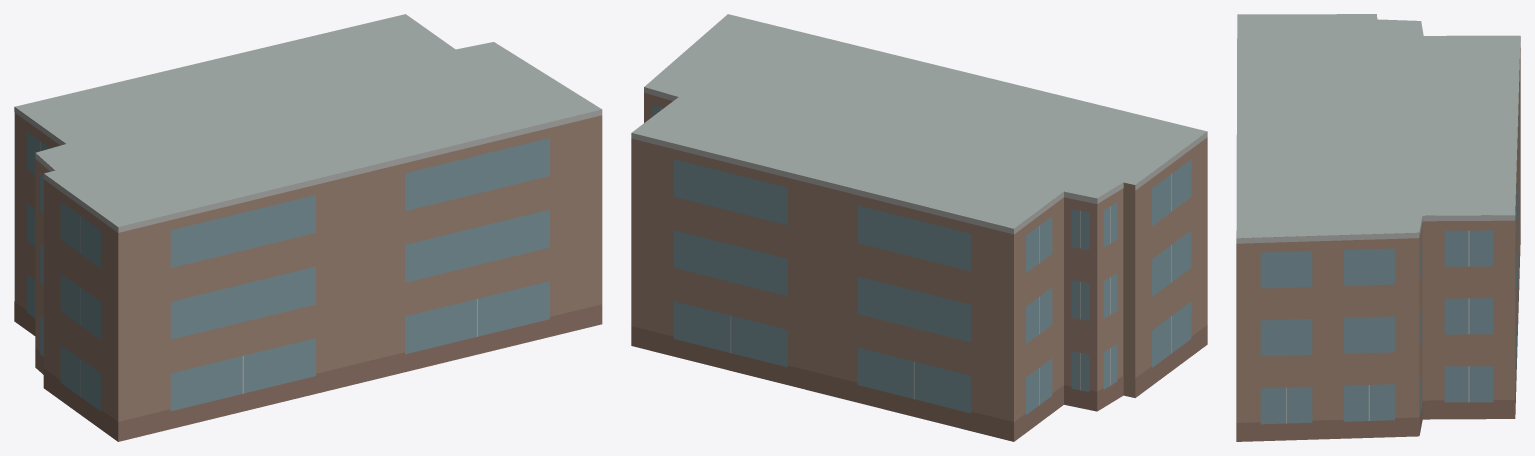
The model's file is survey-upis-32687204.glb.
3 renders of one model, left to right at view 1: azimuth 30°, elevation 25°; view 2: azimuth 150°, elevation 25°; view 3: azimuth 270°, elevation 25°, orthographic. The views are drawn at different scales.
Parts seen in each view (by area): view 1: survey-upis-32687204.tmp; view 2: survey-upis-32687204.tmp; view 3: survey-upis-32687204.tmp.
Boxes of the visible parts, left/top/right/bottom form: survey-upis-32687204.tmp: left=14, top=14, right=602, bottom=441; survey-upis-32687204.tmp: left=631, top=14, right=1207, bottom=441; survey-upis-32687204.tmp: left=1236, top=14, right=1520, bottom=441.
Size of the model in its own units: 21.62 by 9.15 by 11.58.
